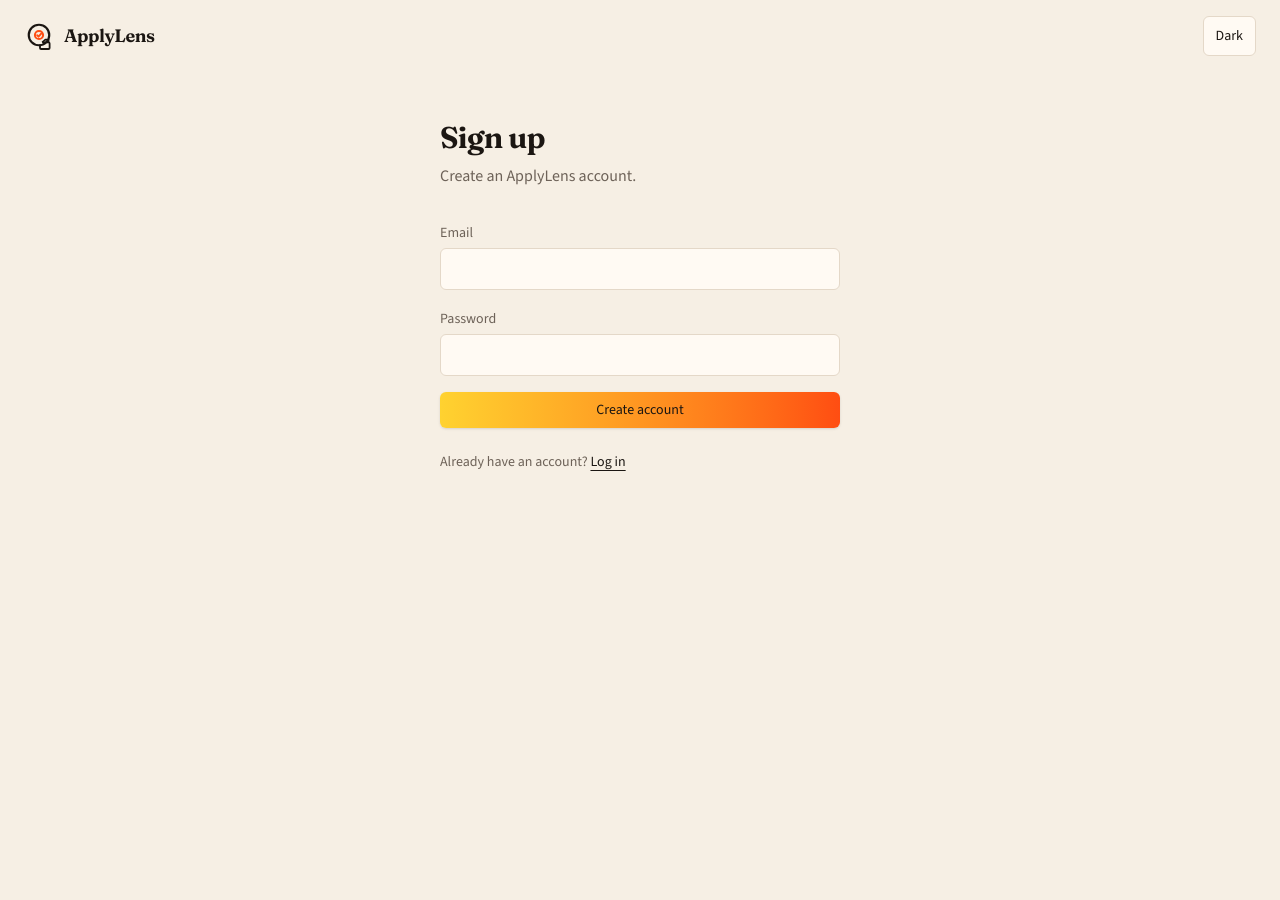
frontend authentication flows › signs up, stores tokens, and shows the authenticated page
The width and height of the screenshot is (1280, 900).
Type "user@example.com" into the field labelled "Email" at (640, 269), box 440,248 -> 840,290
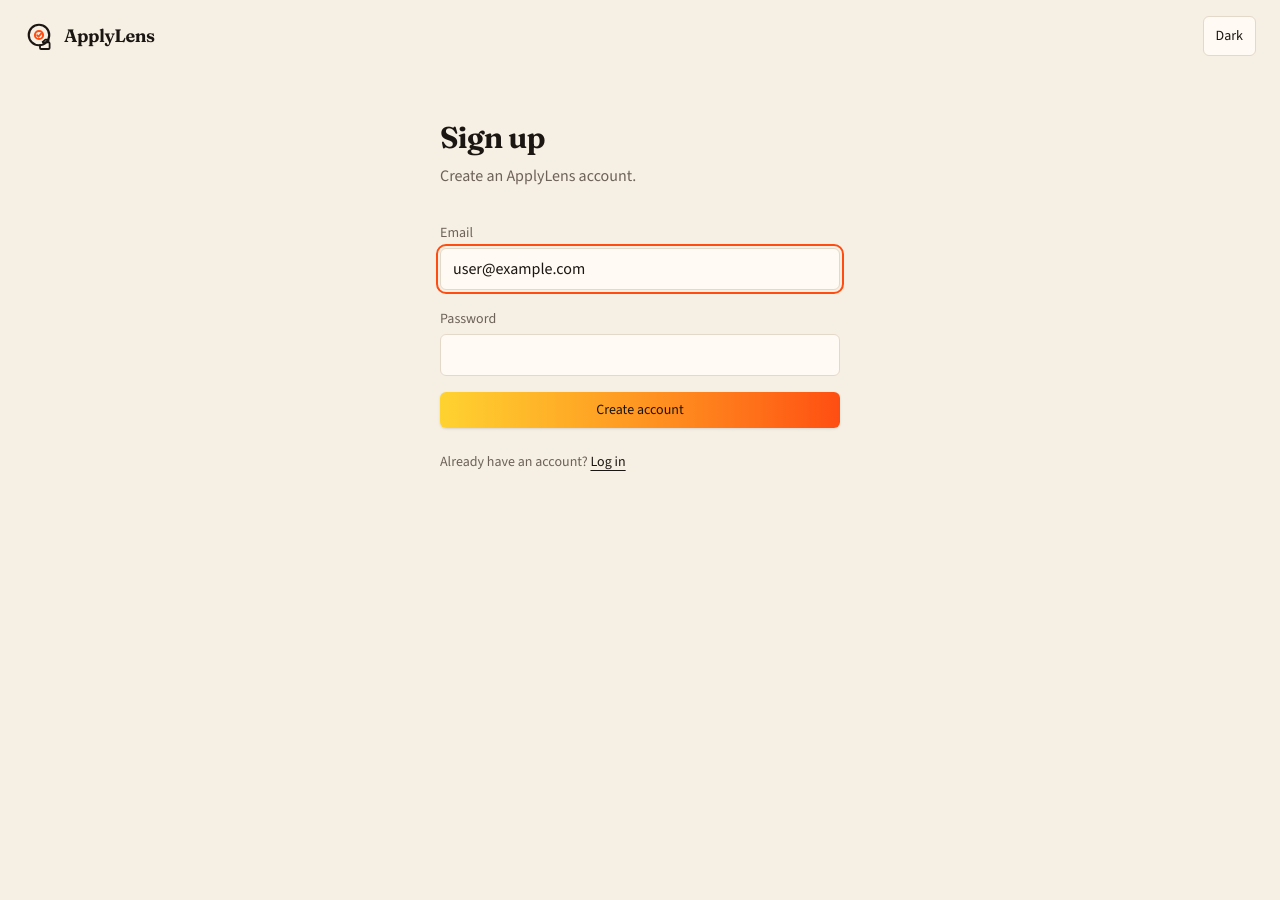
Type "password123" into the password field labelled "Password" at (640, 355), box 440,334 -> 840,376
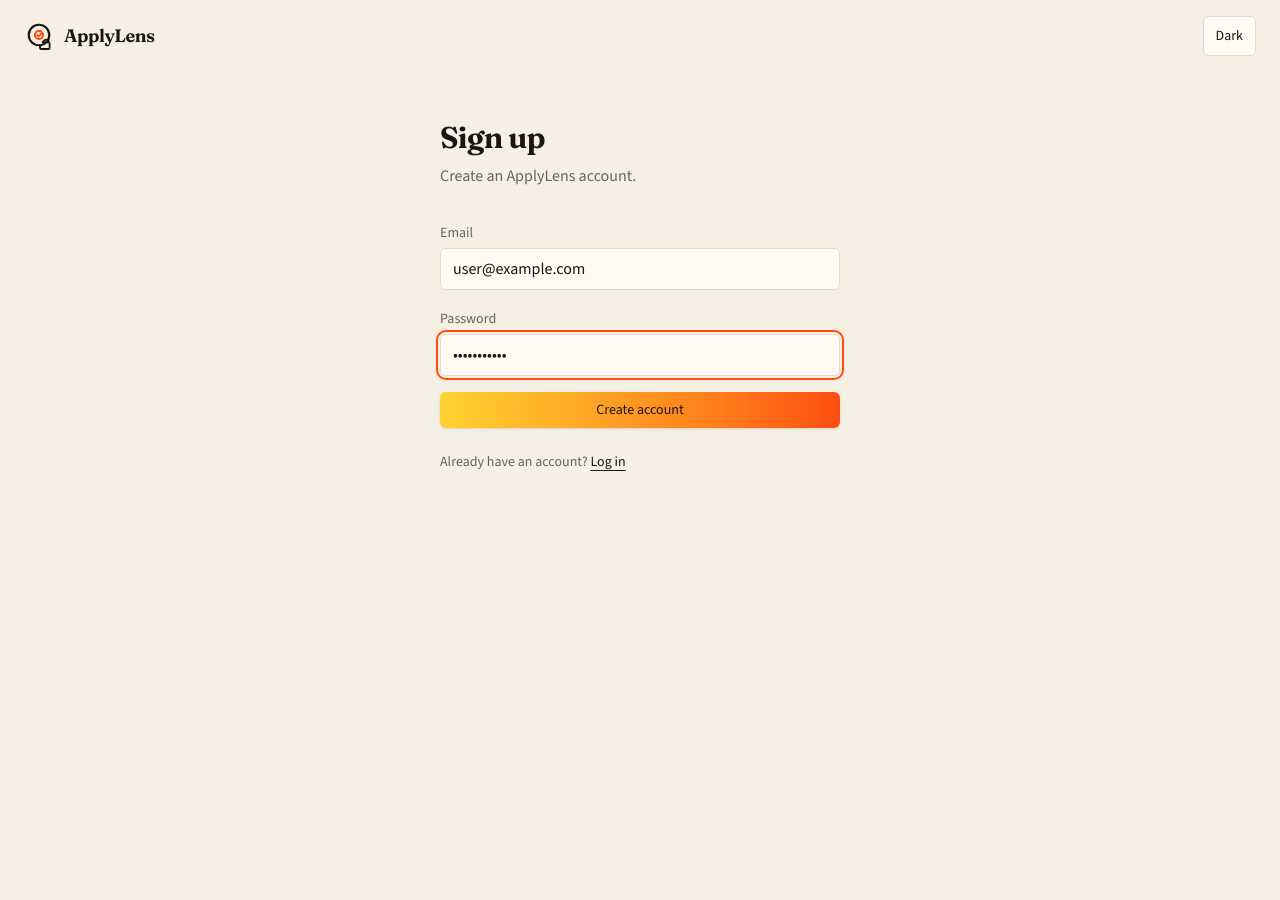
Click the button "Create account" at (640, 410), box 440,392 -> 840,428
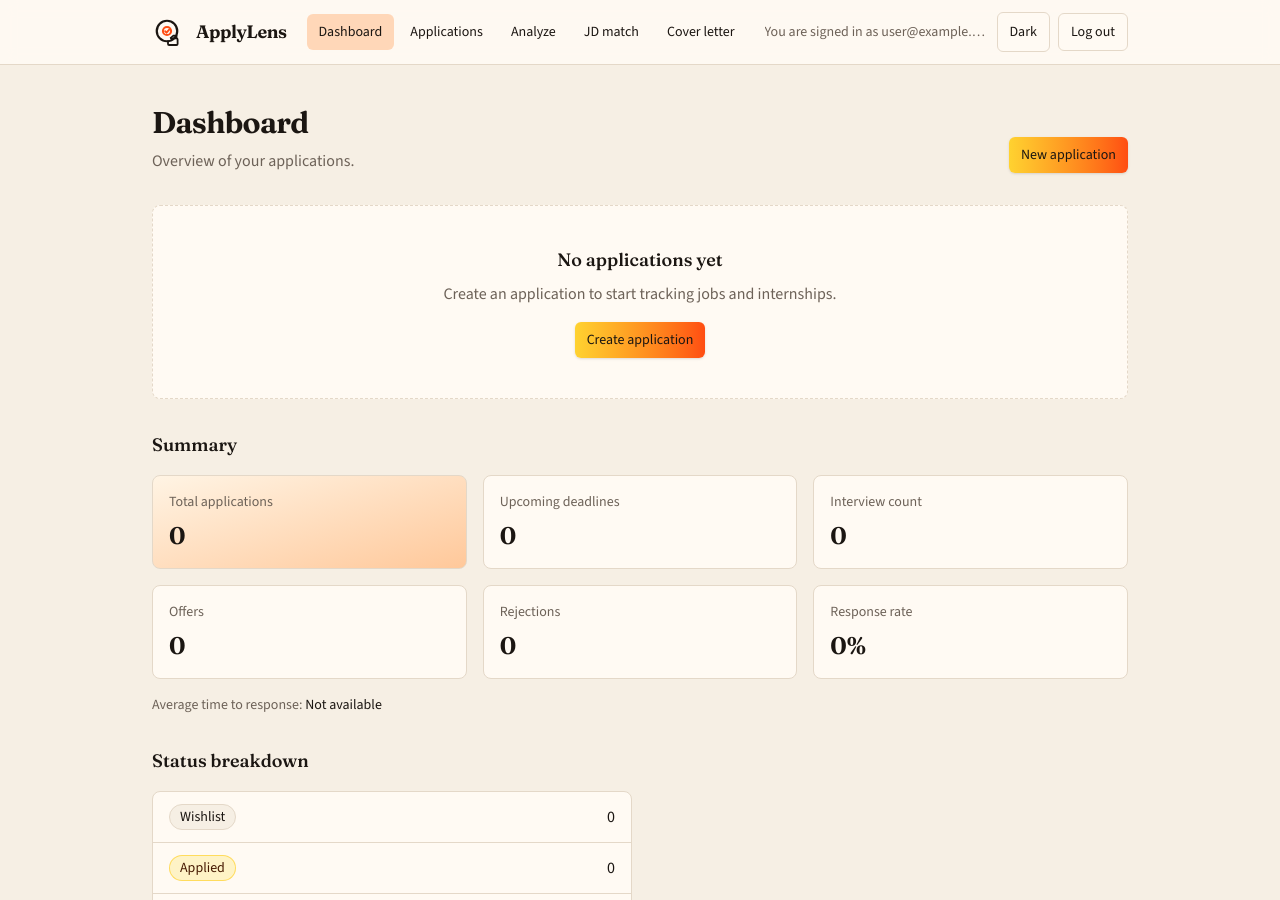
Expected: the text "You are signed in as user@example.com." is shown, 764,22 -> 988,42
